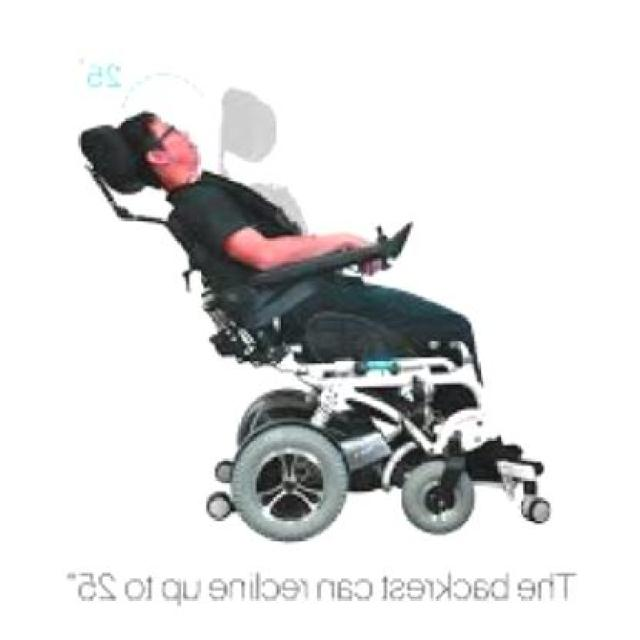wheelchairs: (163, 216, 572, 556)
